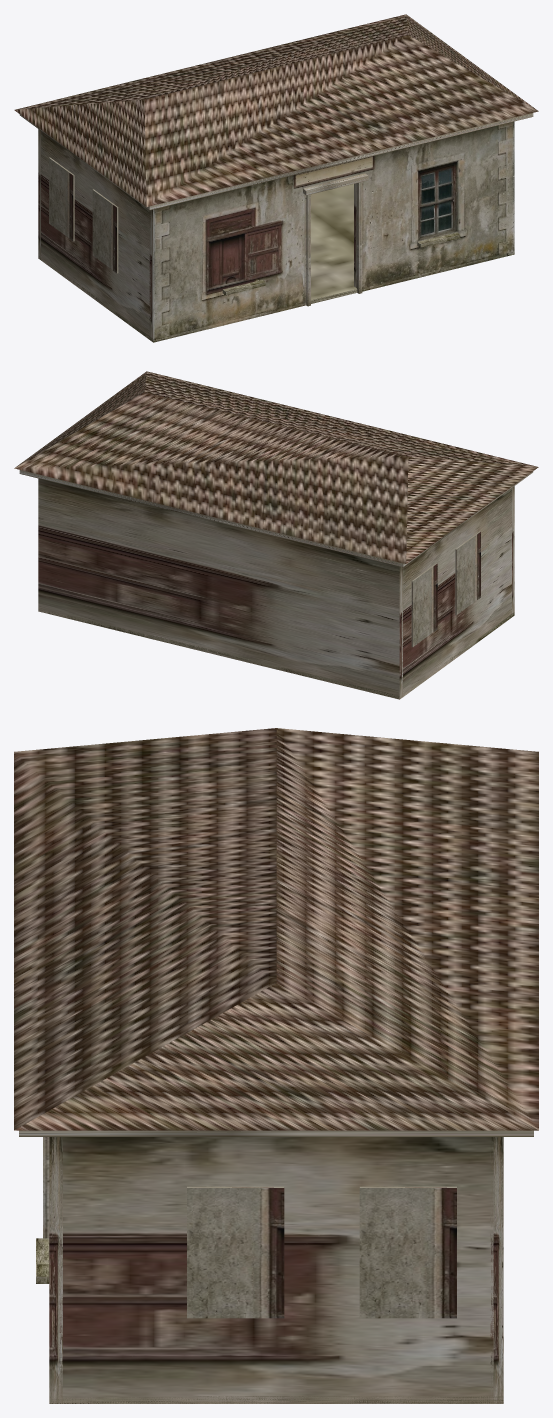
File: istasyon.glb
3 renders of one model, top to bottom at view 1: azimuth 30°, elevation 25°; view 2: azimuth 150°, elevation 25°; view 3: azimuth 270°, elevation 25°, orthographic. The views are drawn at different scales.
Visible parts, largest first — view 1: istasyon; view 2: istasyon; view 3: istasyon.
Part boxes in pixels (x1,y1,x2,y2): istasyon: [14, 14, 538, 342]; istasyon: [14, 371, 538, 699]; istasyon: [14, 728, 538, 1403].
Bounding box in the file's own units: 9.66 × 4.45 × 5.66.
Materials: 1 (1 with a texture image).
